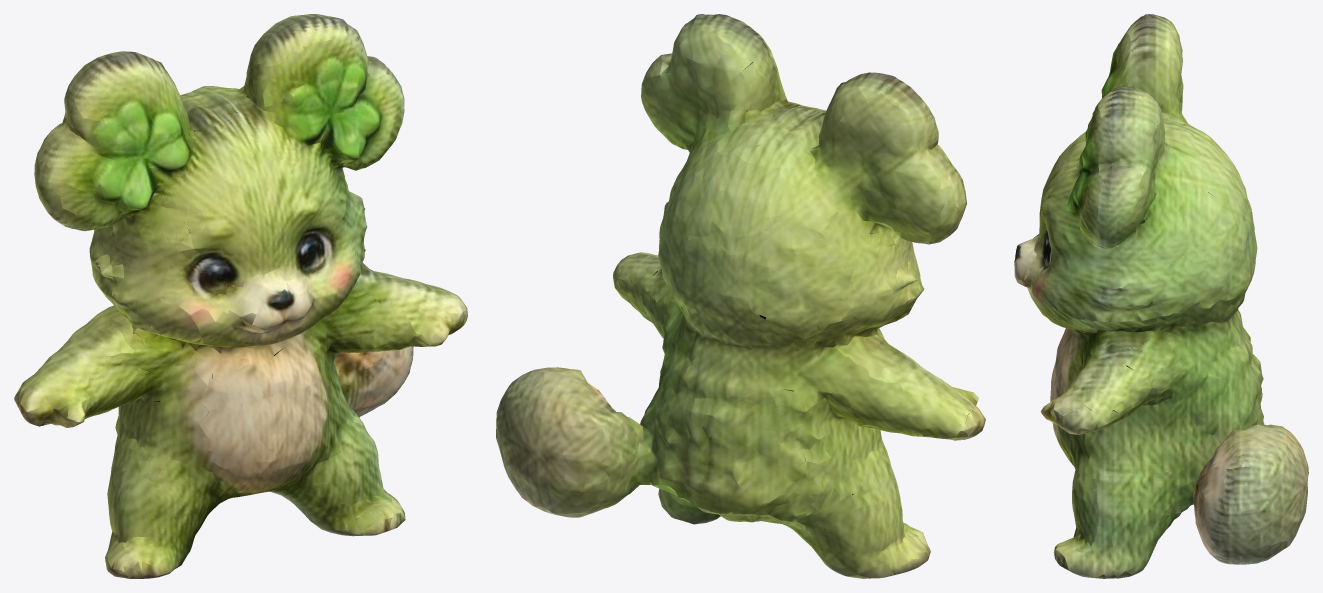
Rendered from grass-04.glb.
The picture shows the model from 3 angles, left to right: view 1: azimuth 30°, elevation 25°; view 2: azimuth 150°, elevation 25°; view 3: azimuth 270°, elevation 25°; orthographic projection. The views are drawn at different scales.
Visible parts, largest first — view 1: world; view 2: world; view 3: world.
Part boxes in pixels (x1,y1,x2,y2): world: (14,14,467,578); world: (496,14,985,578); world: (1014,14,1308,578).
Size of the model in its own units: 0.797 by 0.8935 by 0.5127.
1 material, 1 textured.
